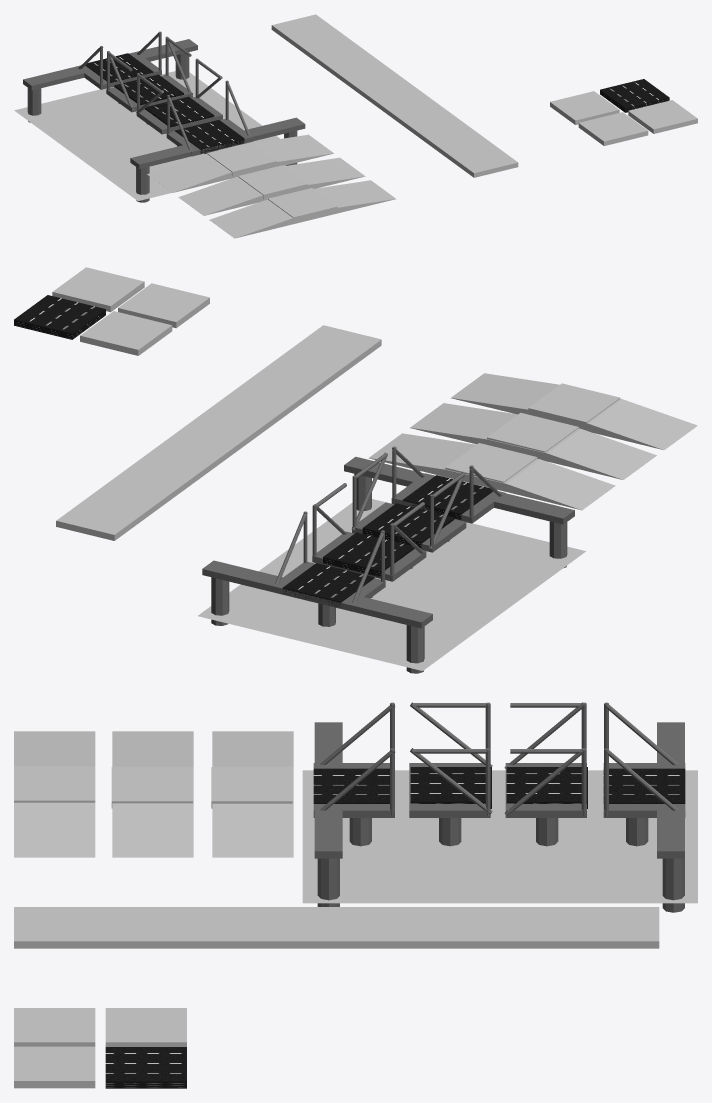
Rendered from RoadBlocks.fbx.
3 renders of one model, top to bottom at view 1: azimuth 30°, elevation 25°; view 2: azimuth 150°, elevation 25°; view 3: azimuth 270°, elevation 25°, orthographic. The views are drawn at different scales.
Parts seen in each view (by area): view 1: Plane, Cube.014, Cube.016, Cube.015, Cube.019, Cube.008, Cube.010, Cube.028, Cube.012, Cube.011, Cube.009, Cube.017 (+19 smaller); view 2: Plane, Cube.015, Cube.014, Cube.016, Cube.028, Cube.005, Cube.009, Cube.011, Cube.010, Cube.008, Cube.019, Cube.001 (+20 smaller); view 3: Plane, Cube.014, Cube.016, Cube.015, Cube.010, Cube.005, Cube.011, Cube.002, Cube.006, Cube.001, Cube.007, Cube.003 (+23 smaller).
Boxes of the visible parts, x1=… form: Plane: x1=14, y1=71, x2=279, y2=200; Cube.014: x1=209, y1=180, x2=395, y2=238; Cube.016: x1=147, y1=134, x2=333, y2=192; Cube.015: x1=178, y1=157, x2=365, y2=215; Cube.019: x1=130, y1=117, x2=305, y2=168; Cube.008: x1=578, y1=112, x2=648, y2=145; Cube.010: x1=628, y1=100, x2=697, y2=133; Cube.028: x1=23, y1=39, x2=197, y2=90; Cube.012: x1=448, y1=144, x2=518, y2=177; Cube.011: x1=600, y1=79, x2=669, y2=112; Cube.009: x1=550, y1=91, x2=619, y2=124; Cube.017: x1=238, y1=165, x2=307, y2=199; Plane: x1=198, y1=499, x2=585, y2=670; Cube.015: x1=410, y1=403, x2=656, y2=479; Cube.014: x1=451, y1=373, x2=697, y2=449; Cube.016: x1=369, y1=433, x2=615, y2=510; Cube.028: x1=202, y1=560, x2=432, y2=628; Cube.005: x1=56, y1=496, x2=148, y2=540; Cube.009: x1=80, y1=311, x2=172, y2=355; Cube.011: x1=14, y1=295, x2=105, y2=339; Cube.010: x1=52, y1=267, x2=144, y2=312; Cube.008: x1=118, y1=283, x2=209, y2=328; Cube.019: x1=344, y1=456, x2=574, y2=524; Cube.001: x1=257, y1=349, x2=348, y2=394; Plane: x1=302, y1=770, x2=697, y2=903; Cube.014: x1=14, y1=731, x2=95, y2=857; Cube.016: x1=212, y1=731, x2=293, y2=857; Cube.015: x1=112, y1=731, x2=193, y2=857; Cube.010: x1=14, y1=1046, x2=95, y2=1088; Cube.005: x1=577, y1=907, x2=659, y2=948; Cube.011: x1=105, y1=1047, x2=186, y2=1088; Cube.002: x1=255, y1=907, x2=336, y2=948; Cube.006: x1=416, y1=907, x2=497, y2=948; Cube.001: x1=94, y1=907, x2=175, y2=948; Cube.007: x1=336, y1=907, x2=417, y2=948; Cube.003: x1=175, y1=907, x2=256, y2=948.
Bounding box in the file's own units: 10624 × 1709 × 8403.
